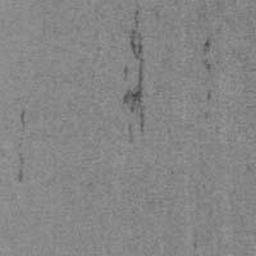Inclusion: (122, 8, 148, 138), (201, 38, 215, 74), (20, 109, 27, 131), (18, 169, 24, 184)
